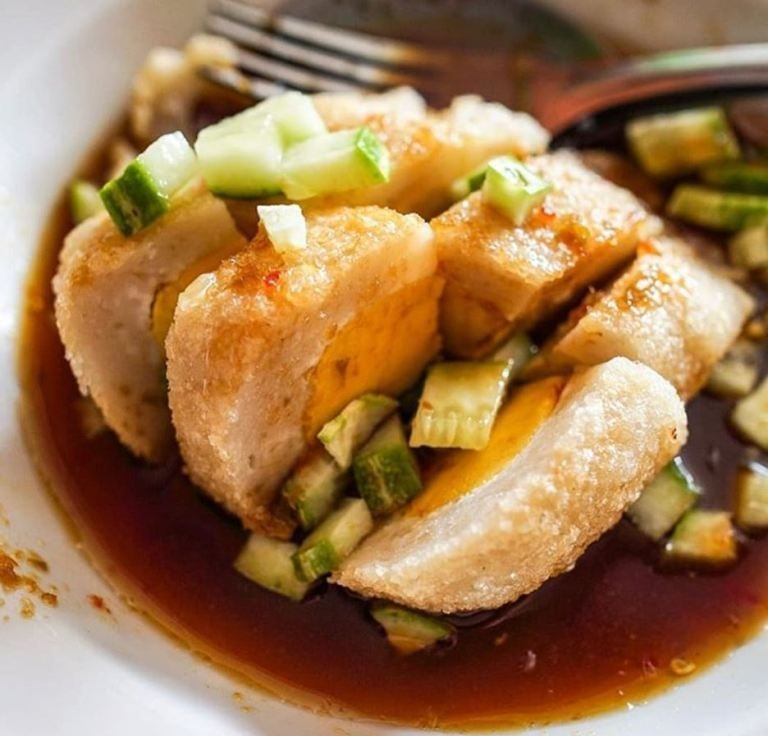pempek: (56, 90, 757, 617)
